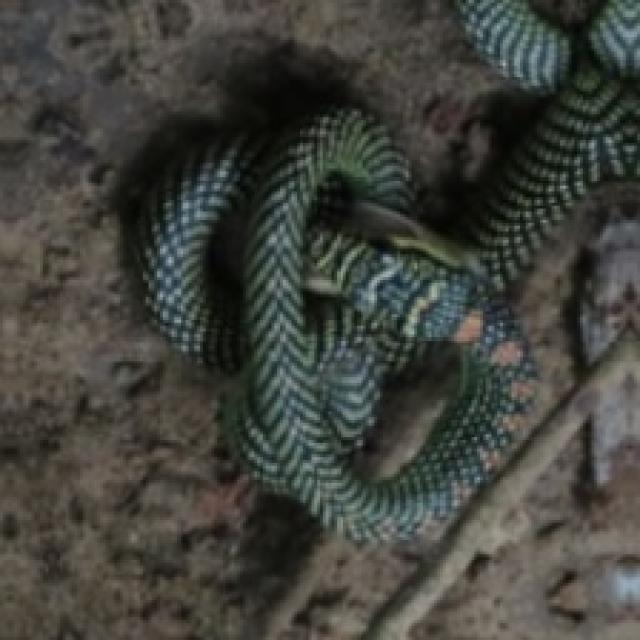paradise tree snake: (117, 0, 637, 534)
